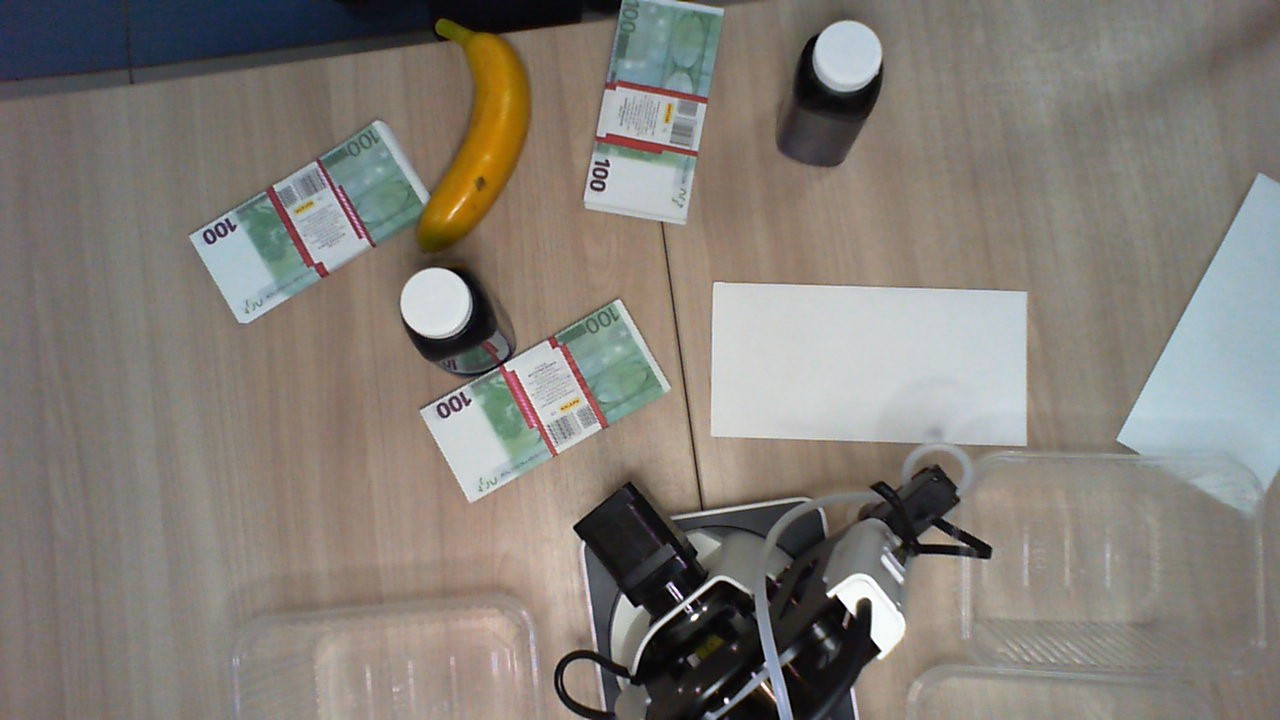banana: (413, 19, 532, 255)
bottle: (399, 264, 494, 360), (799, 20, 884, 116)
convert: (1116, 171, 1280, 514), (711, 279, 1027, 447)
money: (418, 299, 675, 510), (188, 119, 431, 324), (582, 1, 724, 225)
